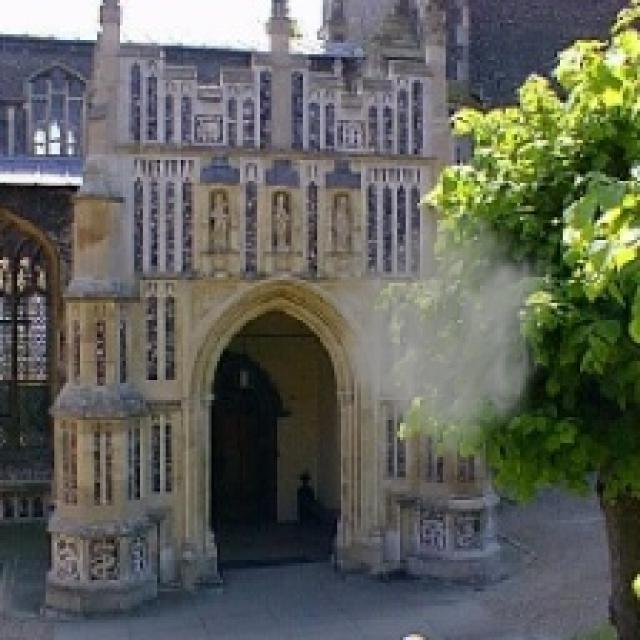Smoke: (314, 197, 552, 480)
